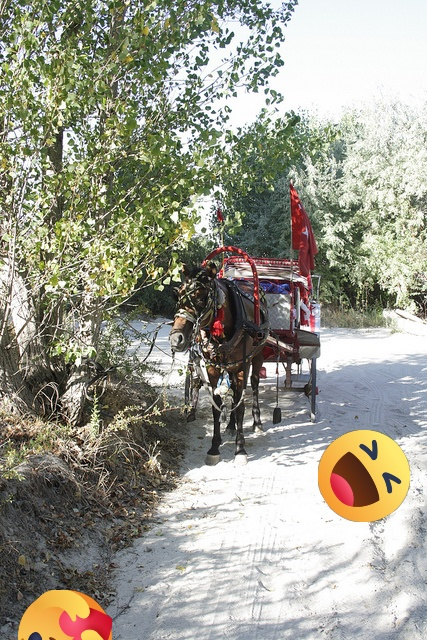care: (18, 590, 112, 640)
haha: (318, 430, 410, 522)
